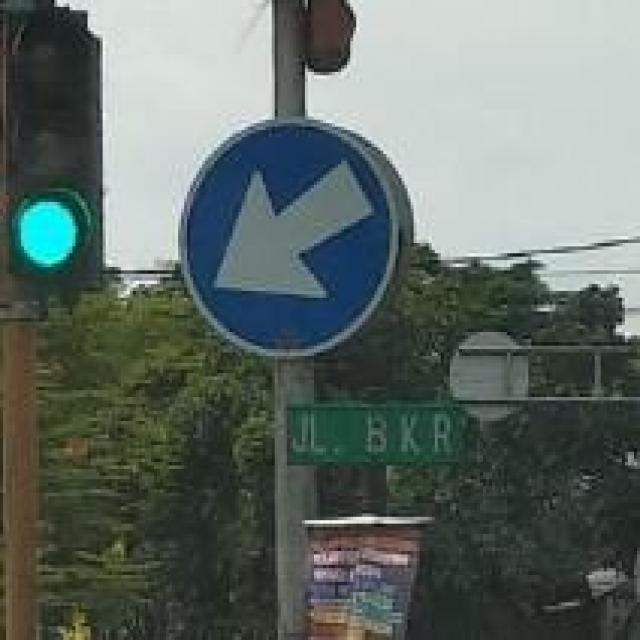traffic sign: (178, 123, 408, 349)
